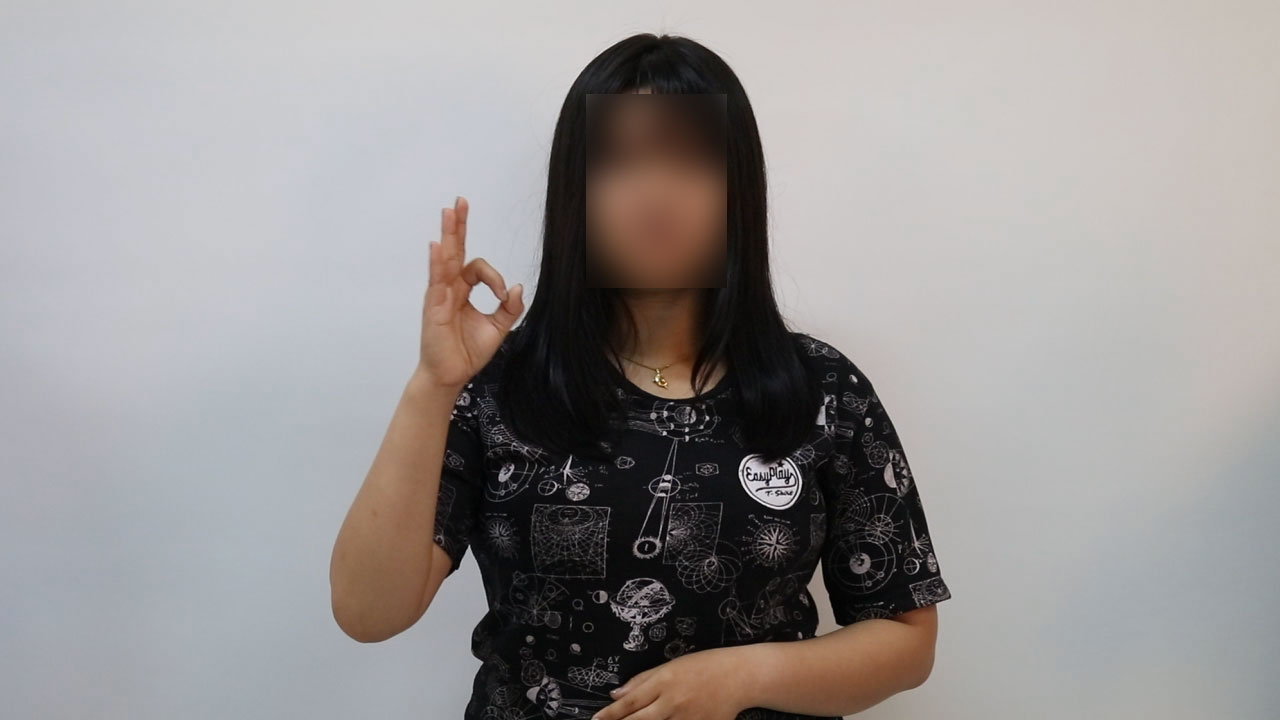for: (395, 184, 528, 398)
